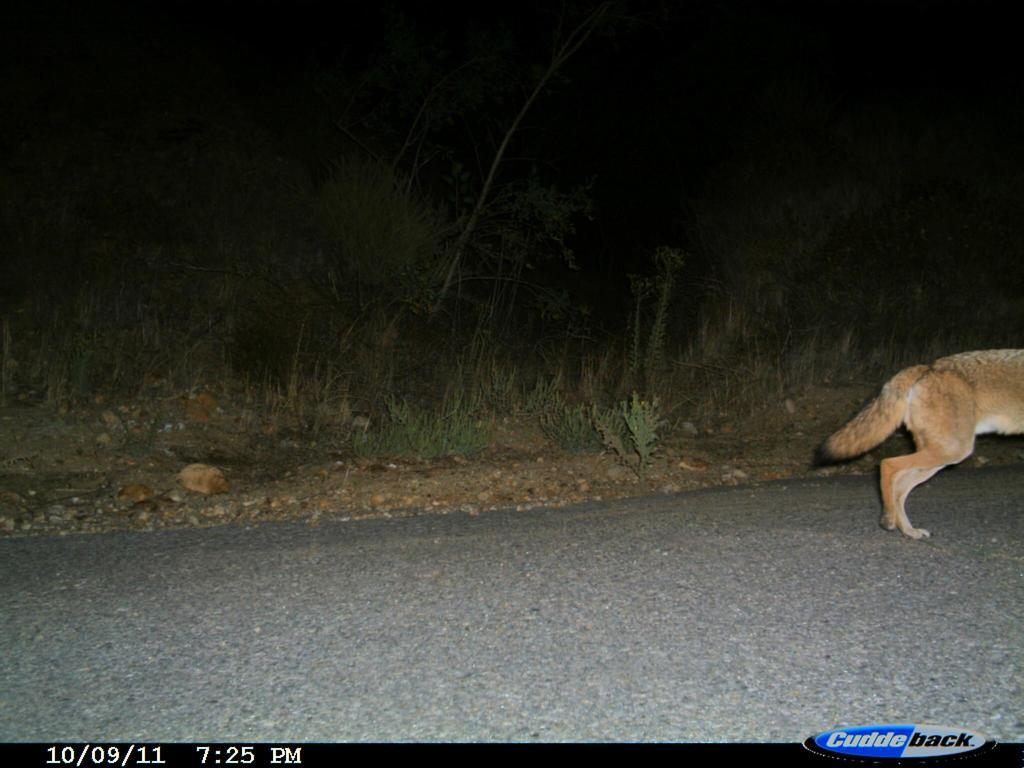coyote: (806, 335, 1023, 550)
